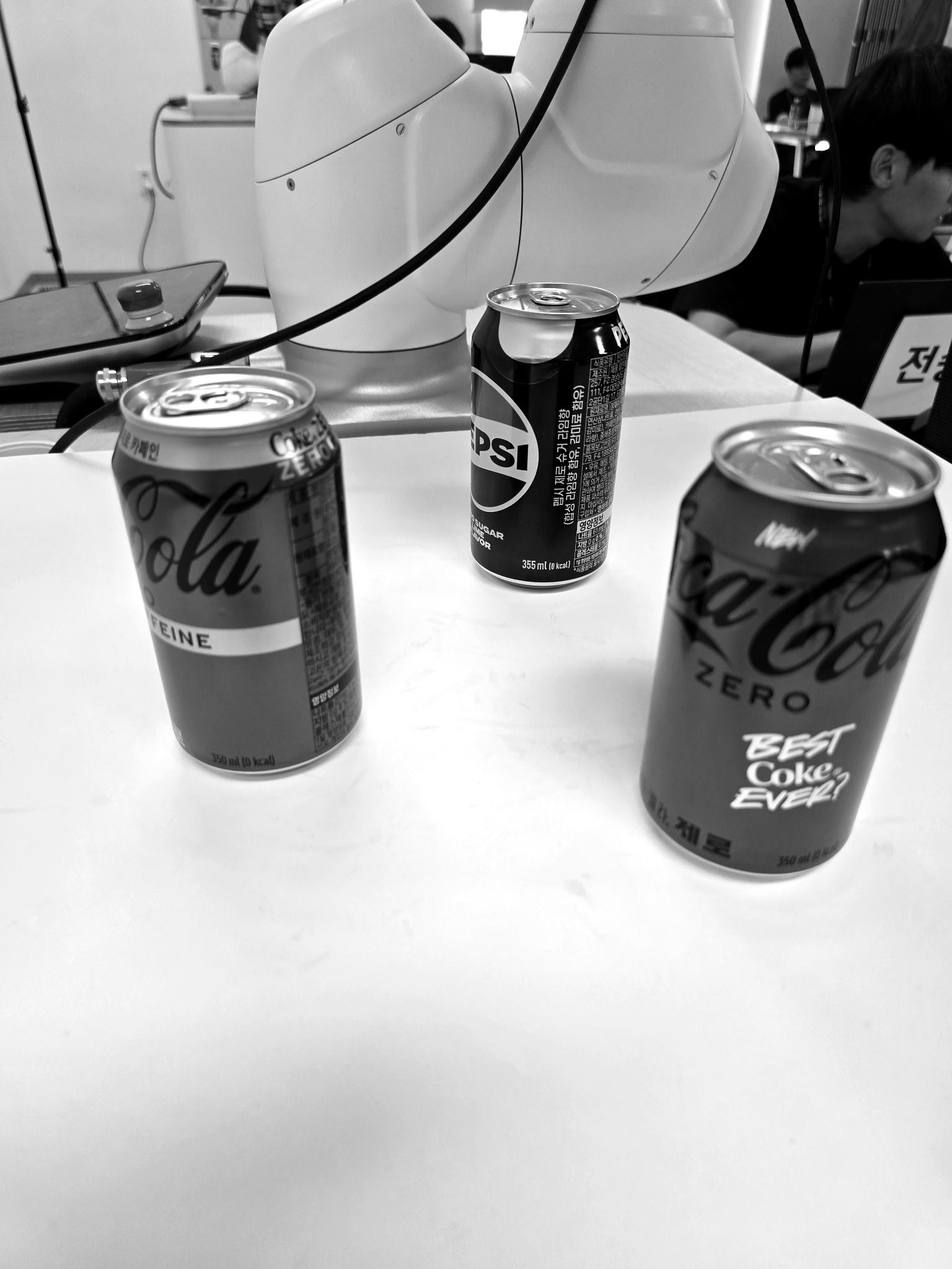can_coke_decaf: (106, 365, 369, 774)
can_coke_zero: (637, 417, 951, 878)
can_pepsi_zero: (467, 284, 632, 587)
